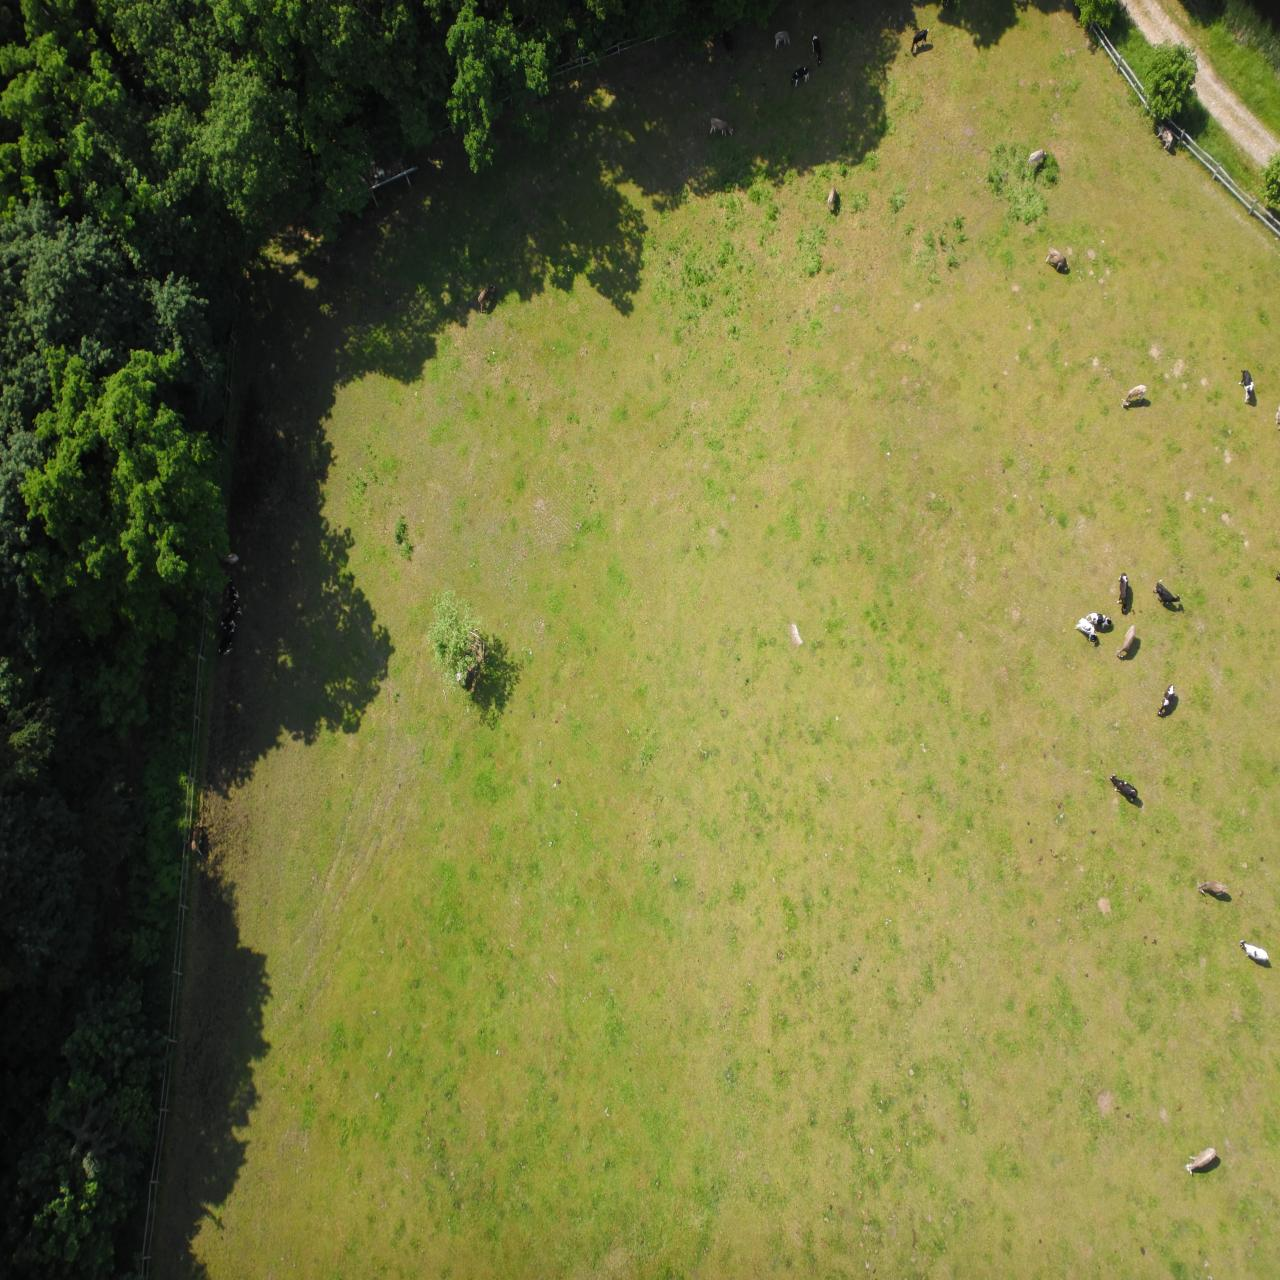cow: (63, 104, 94, 130), (142, 479, 169, 505), (144, 620, 164, 654), (53, 381, 83, 402), (12, 319, 40, 341), (100, 678, 124, 701), (134, 872, 158, 896), (105, 563, 122, 597), (210, 1009, 233, 1033), (26, 876, 41, 911), (183, 636, 203, 662), (152, 667, 163, 707), (547, 1144, 570, 1163), (350, 1228, 369, 1251), (470, 1193, 490, 1213), (168, 652, 193, 667), (233, 1114, 252, 1130), (489, 1231, 505, 1248), (458, 1214, 468, 1245), (443, 1071, 452, 1094)
